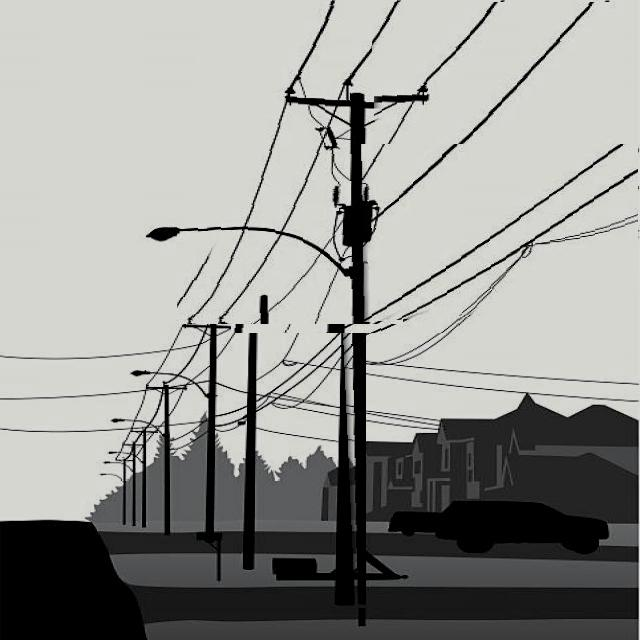crossarm: (284, 90, 426, 120)
pole: (341, 86, 366, 608)
wire: (231, 11, 504, 333), (210, 5, 403, 324), (177, 6, 341, 320), (376, 2, 601, 225), (364, 144, 638, 322)
